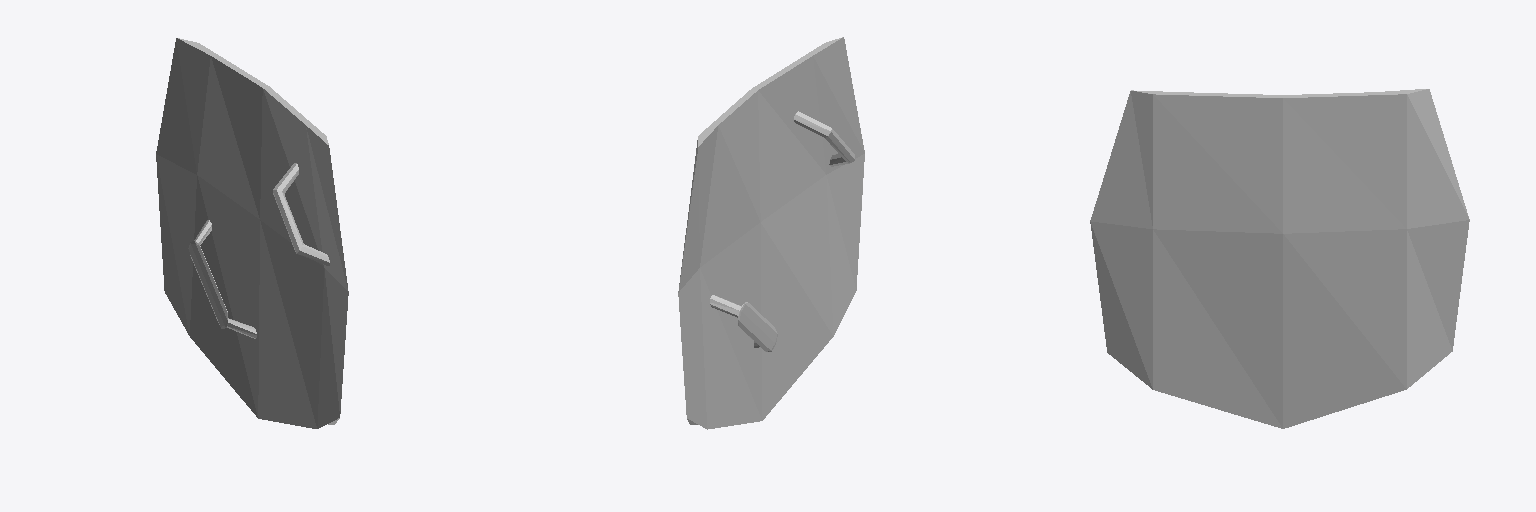
The model's file is shield.obj.
3 views of the same model, side by side, from view 1: azimuth 30°, elevation 25°; view 2: azimuth 150°, elevation 25°; view 3: azimuth 270°, elevation 25° (orthographic).
Visible parts, largest first — view 1: Shield, Strap, Grip; view 2: Shield, Strap, Grip; view 3: Shield.
Boxes of the visible parts, <box> form: Shield: <box>156,38,348,428</box>; Strap: <box>188,220,256,338</box>; Grip: <box>273,163,329,265</box>; Shield: <box>678,37,864,429</box>; Strap: <box>710,295,777,351</box>; Grip: <box>794,111,854,166</box>; Shield: <box>1090,89,1469,428</box>.
Size of the model in its own units: 1.18 by 7.94 by 8.28.